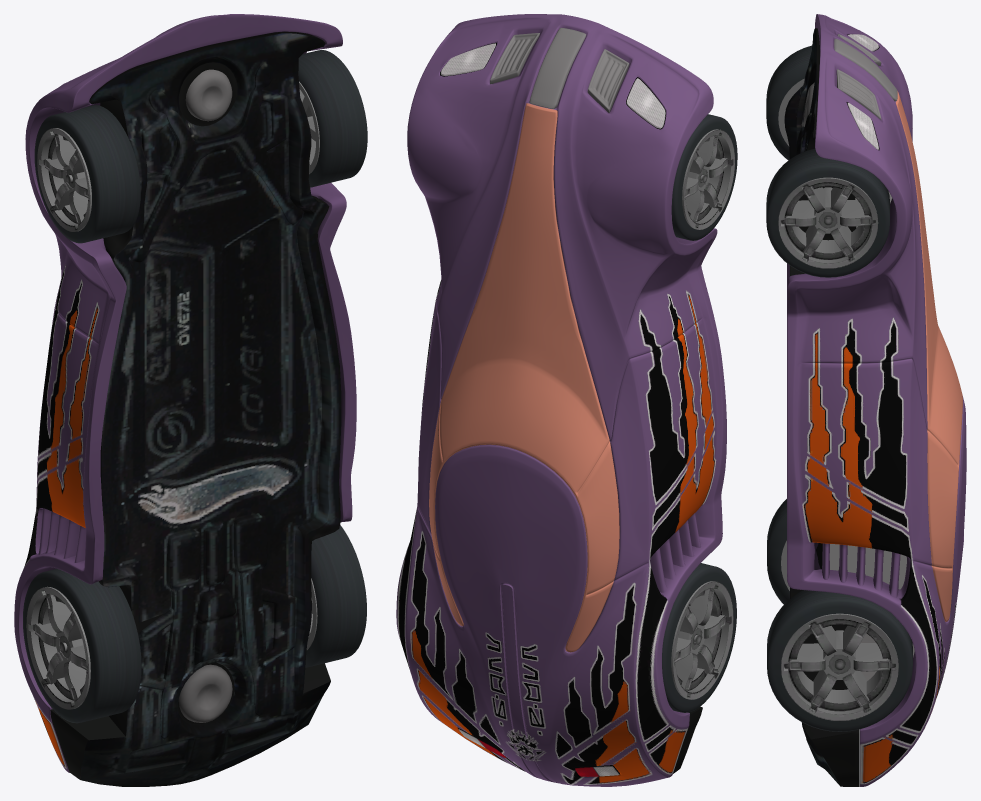
The model's file is covelite.glb.
3 renders of one model, left to right at view 1: azimuth 30°, elevation 25°; view 2: azimuth 150°, elevation 25°; view 3: azimuth 270°, elevation 25°, orthographic. The views are drawn at different scales.
Visible parts, largest first — view 1: Body, wheel4, wheel2, wheel1, wheel3; view 2: Body, wheel4, wheel2; view 3: Body, wheel3, wheel1, wheel2, wheel4.
Boxes of the visible parts, x1,y1,x2,y2 form: Body: [14, 14, 356, 786]; wheel4: [23, 568, 141, 723]; wheel2: [34, 105, 140, 243]; wheel1: [298, 50, 367, 187]; wheel3: [305, 525, 366, 667]; Body: [396, 14, 726, 786]; wheel4: [662, 563, 736, 712]; wheel2: [671, 114, 737, 240]; Body: [784, 14, 966, 786]; wheel3: [767, 590, 912, 731]; wheel1: [766, 148, 889, 277]; wheel2: [766, 45, 812, 160]; wheel4: [767, 499, 789, 604].
Size of the model in its own units: 2.96 by 7.98 by 1.99.
Materials: 9 (8 with a texture image).
